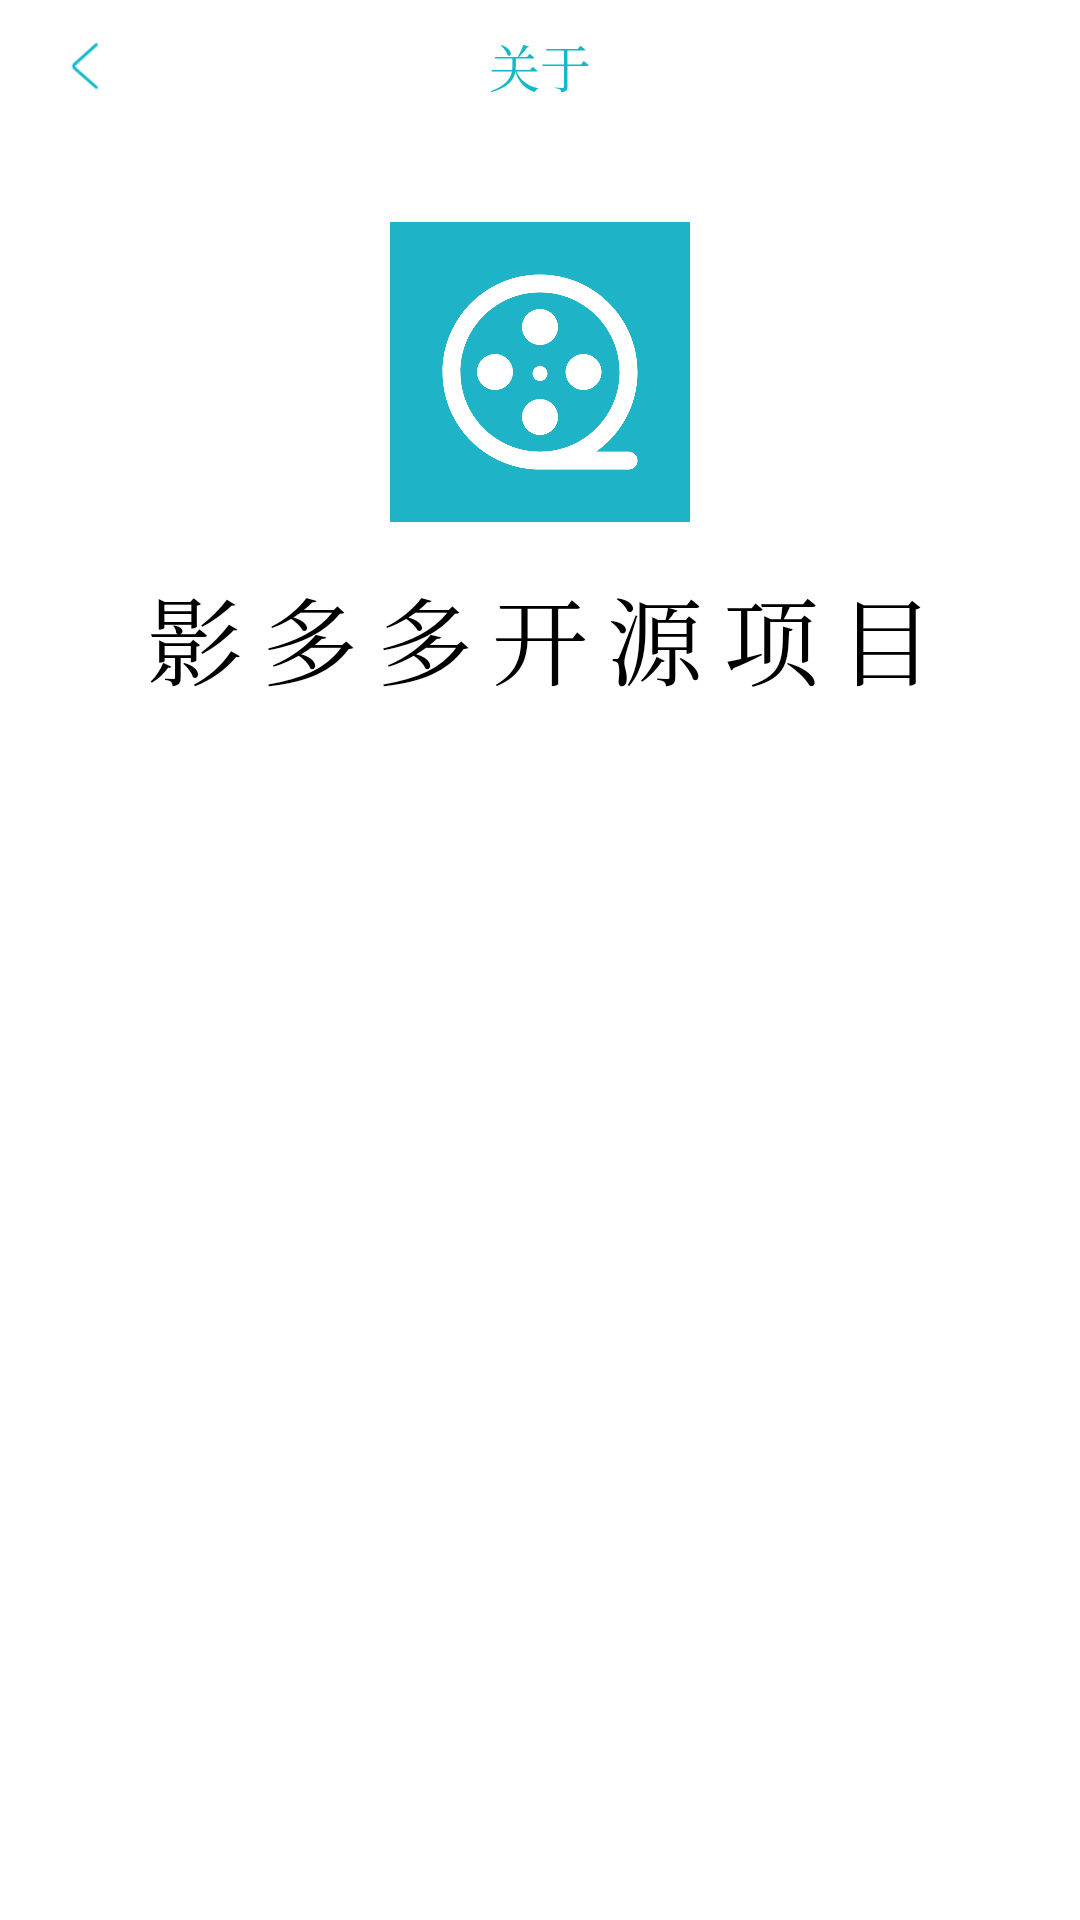

Icons on this 1080×1920 Android screen, each with its box as rect(x1, y1, x2, y2):
back: rect(71, 42, 99, 90)
